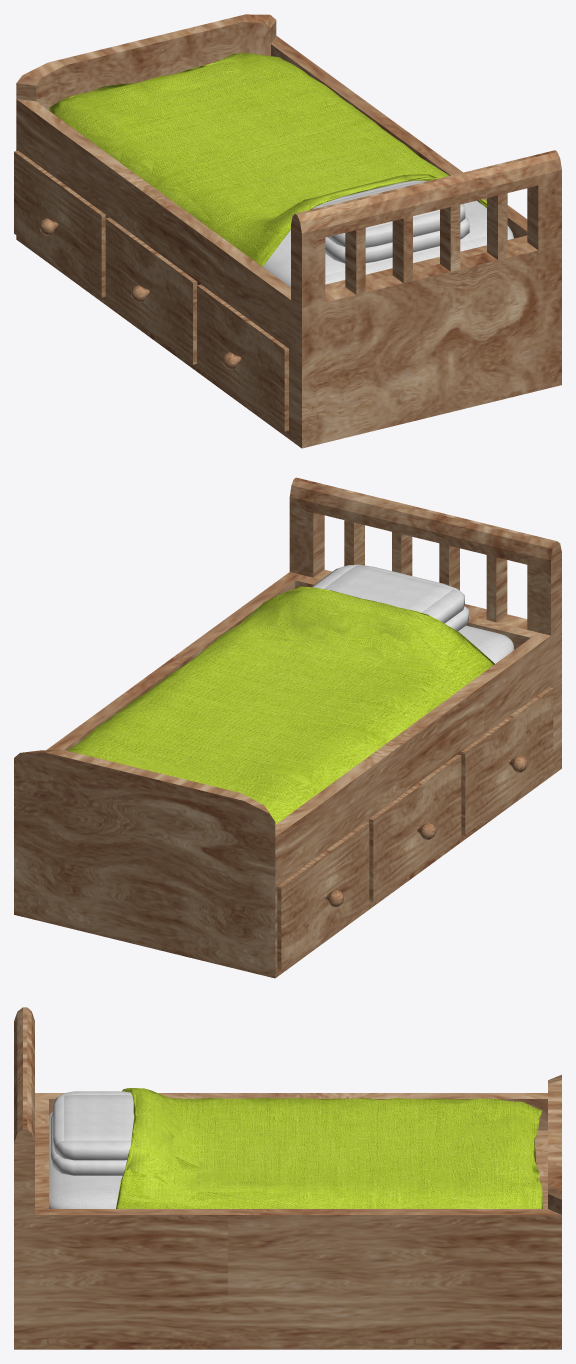
Rendered from obj_single_bed_with_drawers_d5f09b.glb.
3 views of the same model, one above another, from view 1: azimuth 30°, elevation 25°; view 2: azimuth 150°, elevation 25°; view 3: azimuth 270°, elevation 25° (orthographic). The views are drawn at different scales.
Parts seen in each view (by area): view 1: obj_single_bed_with_drawers_d5f09b; view 2: obj_single_bed_with_drawers_d5f09b; view 3: obj_single_bed_with_drawers_d5f09b.
Part boxes in pixels (x1,y1,x2,y2): obj_single_bed_with_drawers_d5f09b: (14, 14, 561, 448); obj_single_bed_with_drawers_d5f09b: (14, 477, 561, 978); obj_single_bed_with_drawers_d5f09b: (14, 1007, 561, 1349).
Bounding box in the file's own units: 2.05 × 1.6 × 3.6.
Materials: 3 (3 with a texture image).
